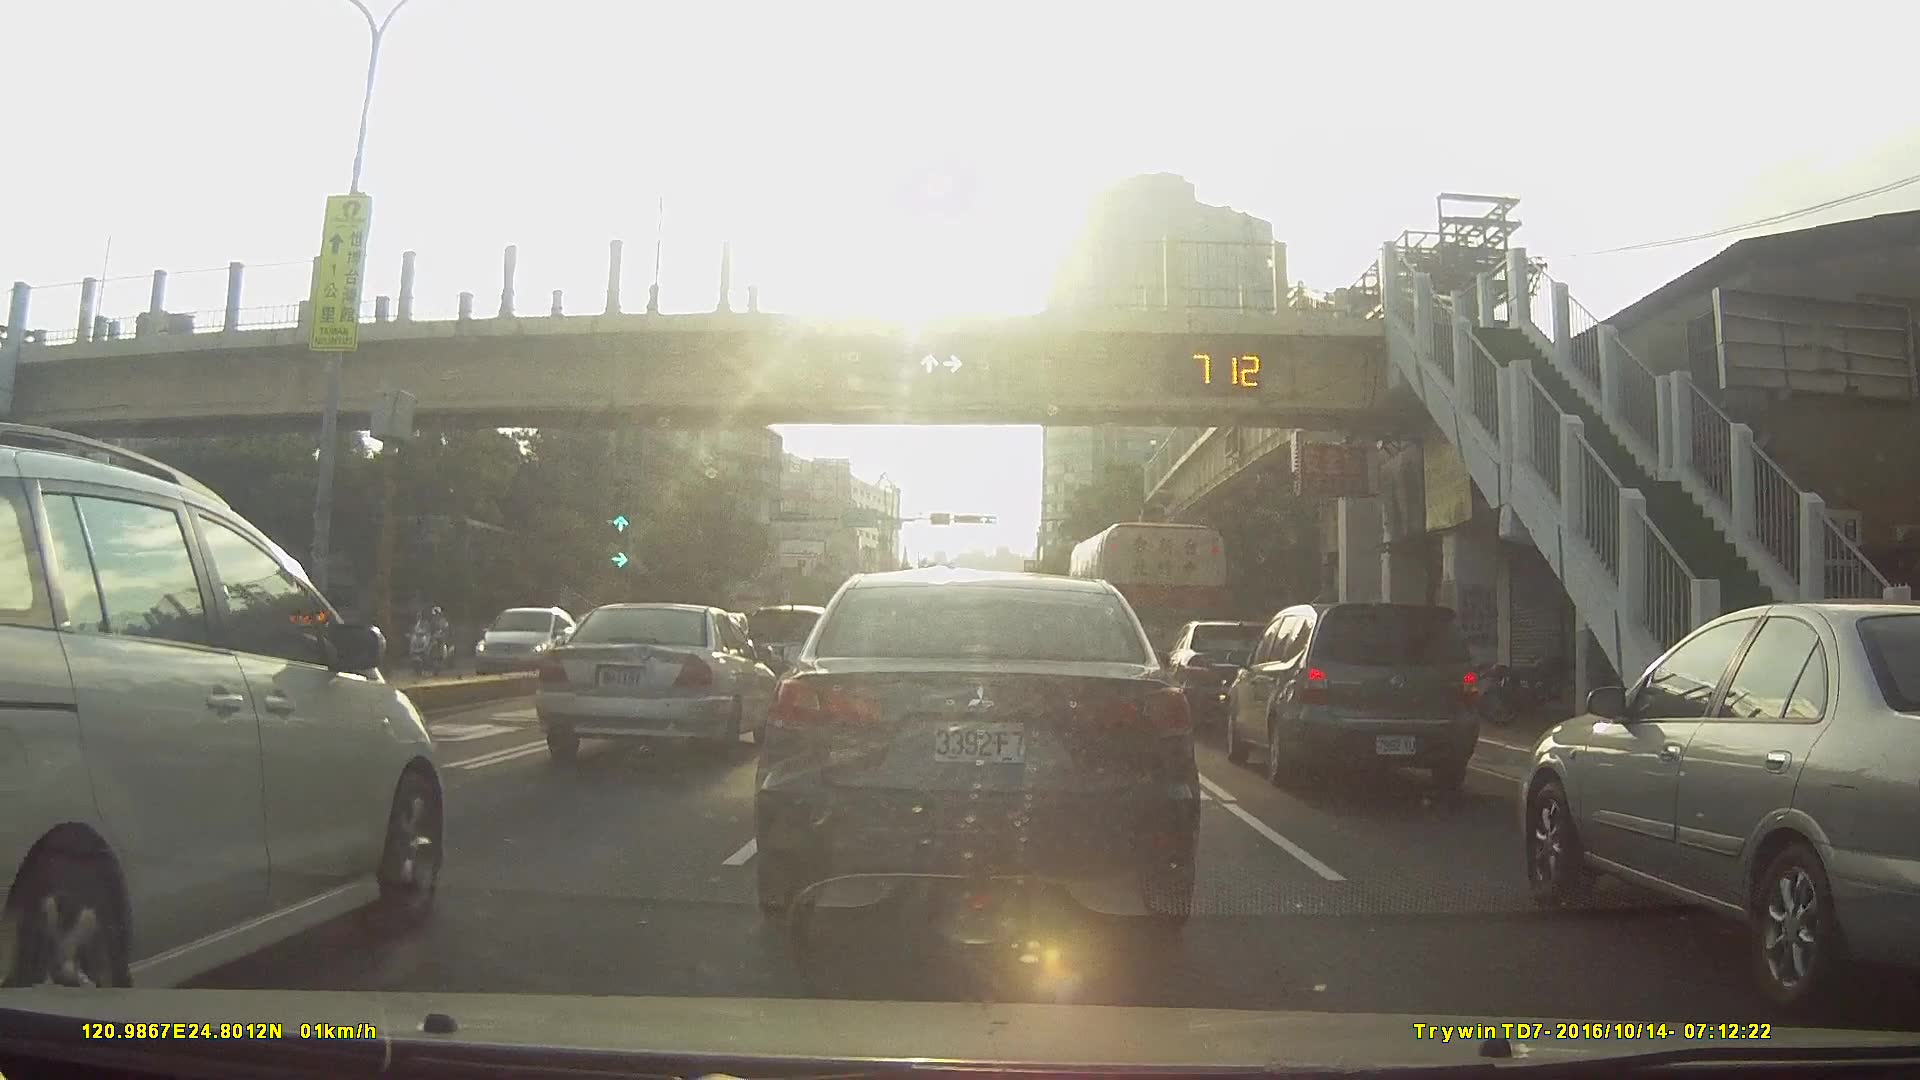rider: (410, 607, 453, 675)
vehicle: (0, 427, 459, 1025), (1521, 596, 1920, 1016), (762, 567, 1199, 940), (1223, 599, 1483, 791), (545, 602, 788, 760), (1163, 620, 1291, 725), (731, 602, 834, 703), (468, 605, 592, 676)
